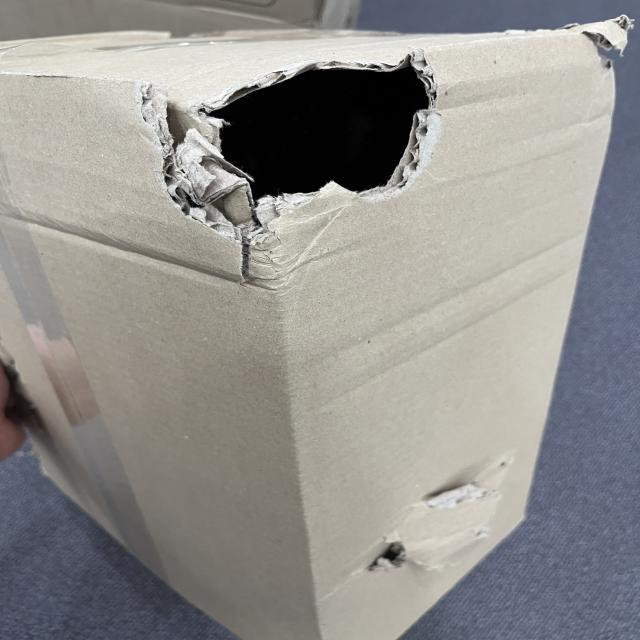hole: (146, 54, 436, 236), (413, 439, 540, 518), (365, 540, 410, 575)
